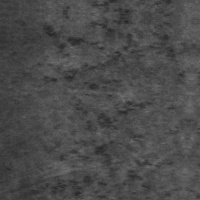rolled-in_scale: (32, 12, 178, 110), (50, 91, 164, 199)
